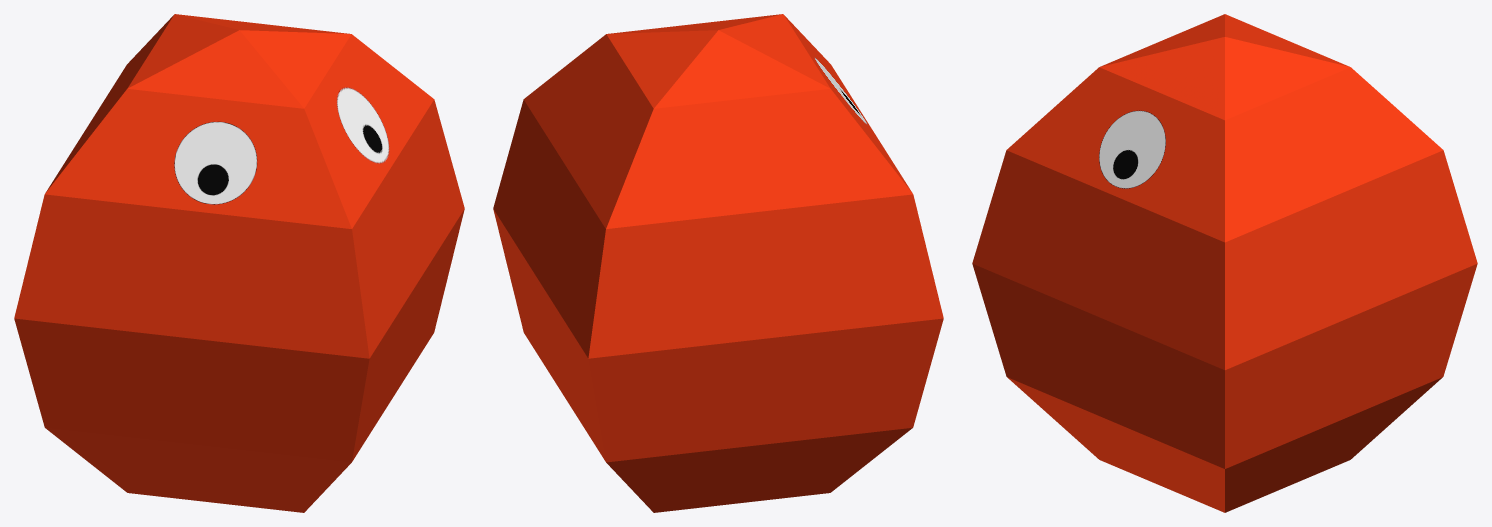
Rendered from dot_crouch.fbx.
3 views of the same model, side by side, from view 1: azimuth 30°, elevation 25°; view 2: azimuth 150°, elevation 25°; view 3: azimuth 270°, elevation 25° (orthographic). The views are drawn at different scales.
Parts seen in each view (by area): view 1: dot; view 2: dot; view 3: dot.
Boxes of the visible parts, x1,y1,x2,y2 form: dot: (14,14,464,512); dot: (493,14,943,512); dot: (972,14,1477,512).
Size of the model in its own units: 20.14 by 18.6 by 20.14.
